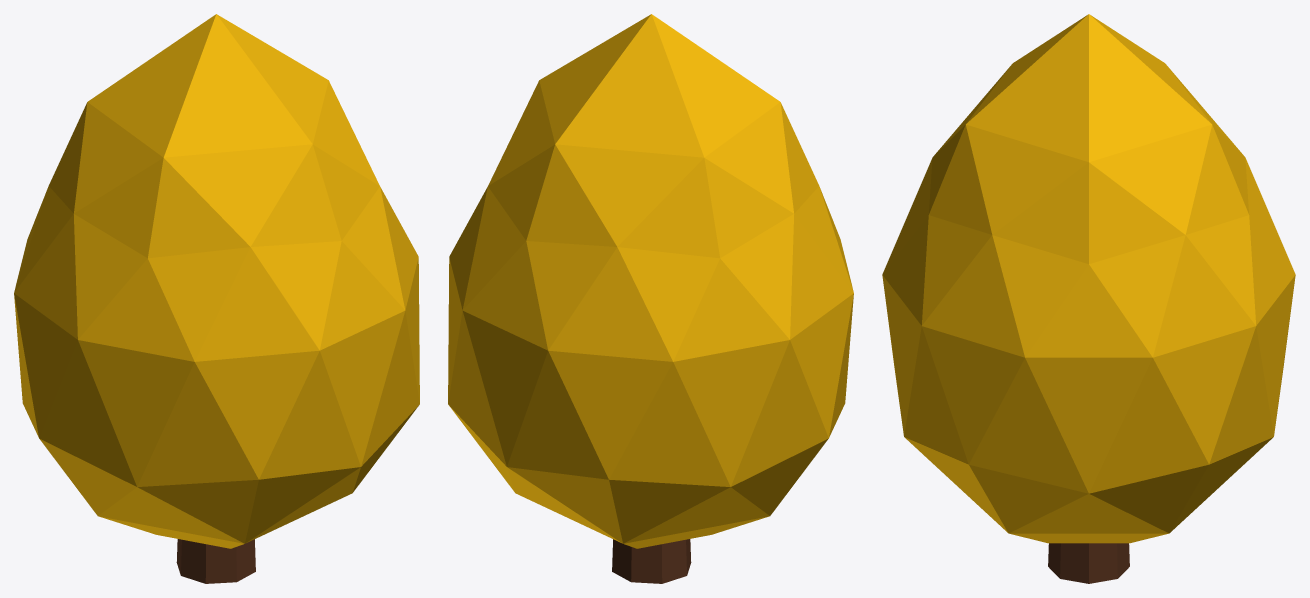
File: bush-3.fbx
3 views of the same model, side by side, from view 1: azimuth 30°, elevation 25°; view 2: azimuth 150°, elevation 25°; view 3: azimuth 270°, elevation 25° (orthographic).
Parts seen in each view (by area): view 1: bush-3; view 2: bush-3; view 3: bush-3.
Part boxes in pixels (x1=…): bush-3: x1=14, y1=14, x2=419, y2=583; bush-3: x1=448, y1=14, x2=853, y2=583; bush-3: x1=882, y1=14, x2=1295, y2=583.
Size of the model in its own units: 66.4 by 101 by 68.43.
